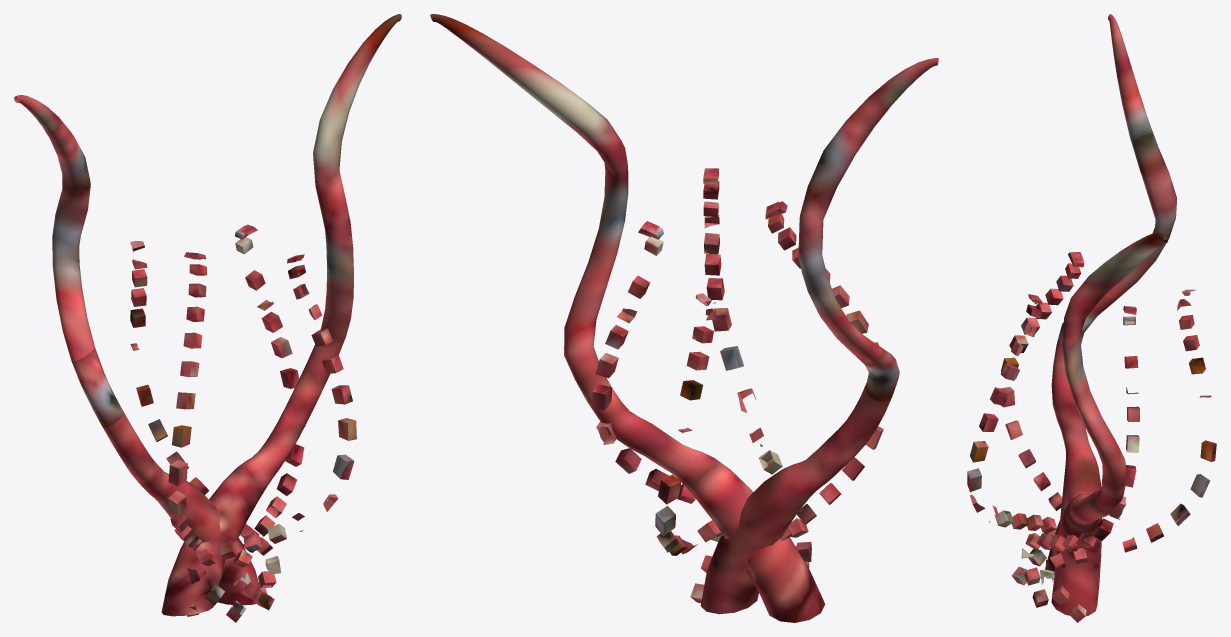
The model's file is flesh tentacles2.fbx.
The picture shows the model from 3 angles, left to right: view 1: azimuth 30°, elevation 25°; view 2: azimuth 150°, elevation 25°; view 3: azimuth 270°, elevation 25°; orthographic projection. The views are drawn at different scales.
Visible parts, largest first — view 1: BezierCurve.001; view 2: BezierCurve.001; view 3: BezierCurve.001.
Boxes of the visible parts, x1,y1,x2,y2 form: BezierCurve.001: (14, 14, 401, 622); BezierCurve.001: (430, 14, 938, 622); BezierCurve.001: (967, 14, 1216, 622).
Size of the model in its own units: 901 by 1129 by 505.
